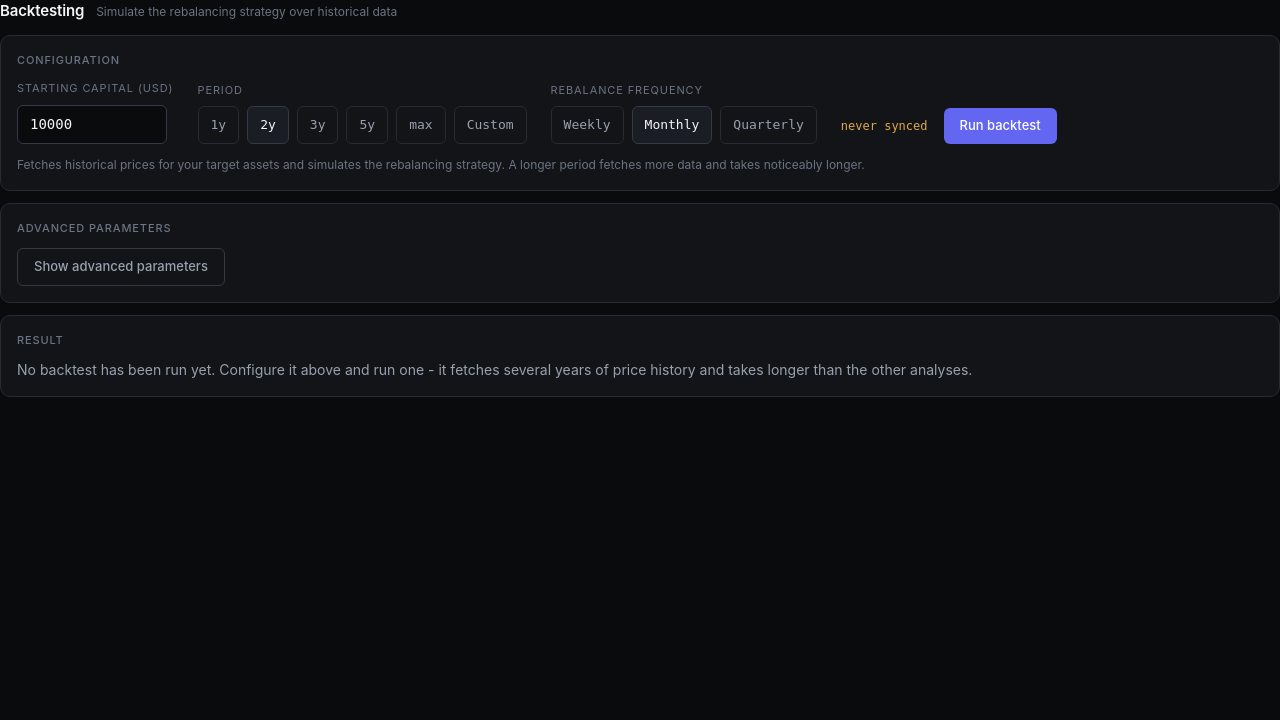
Test: Backtest custom allocation assets › rejects invalid and duplicate symbols with a hint
The width and height of the screenshot is (1280, 720).
Expected: the button "Run backtest" is shown, x1=944 y1=108 x2=1057 y2=144
Click the button "Show advanced parameters": coordinates (121, 267) x1=17 y1=248 x2=225 y2=286
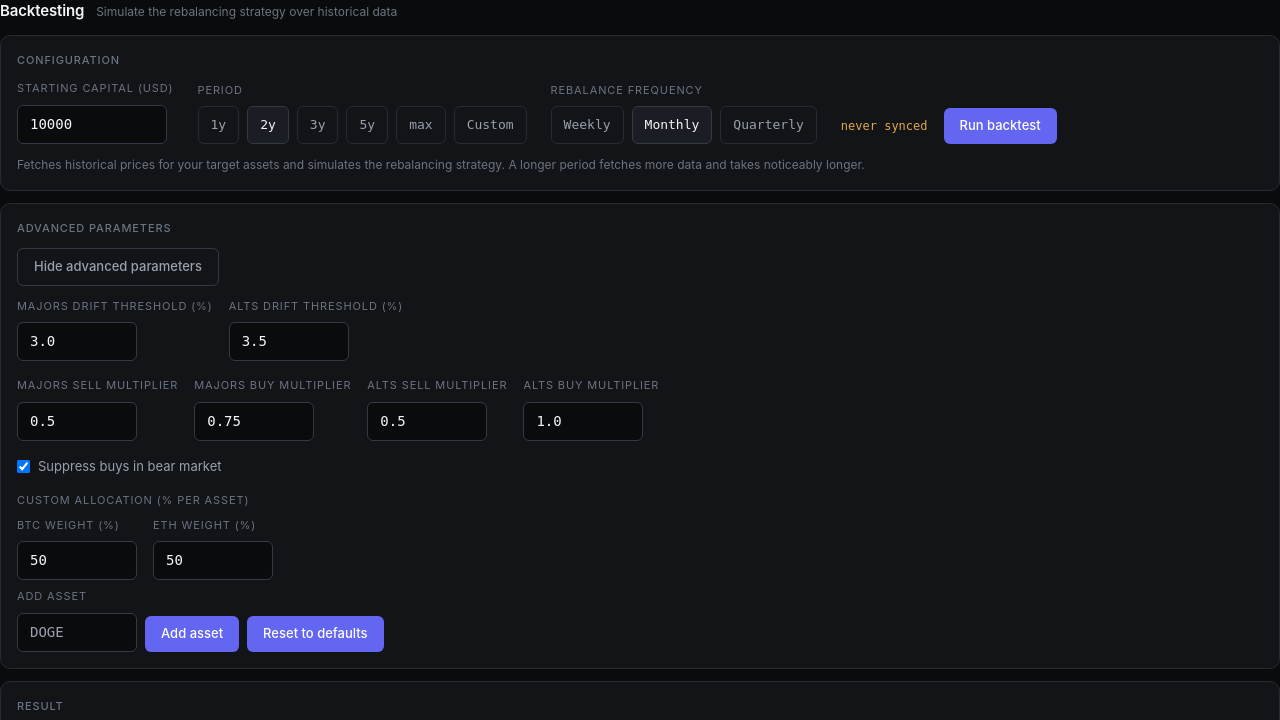
Expected: the number field labelled "BTC weight (%)" is shown, x1=17 y1=541 x2=137 y2=580
In the field with placeholder "DOGE": coordinates (77, 632) x1=17 y1=612 x2=137 y2=652, type "x"
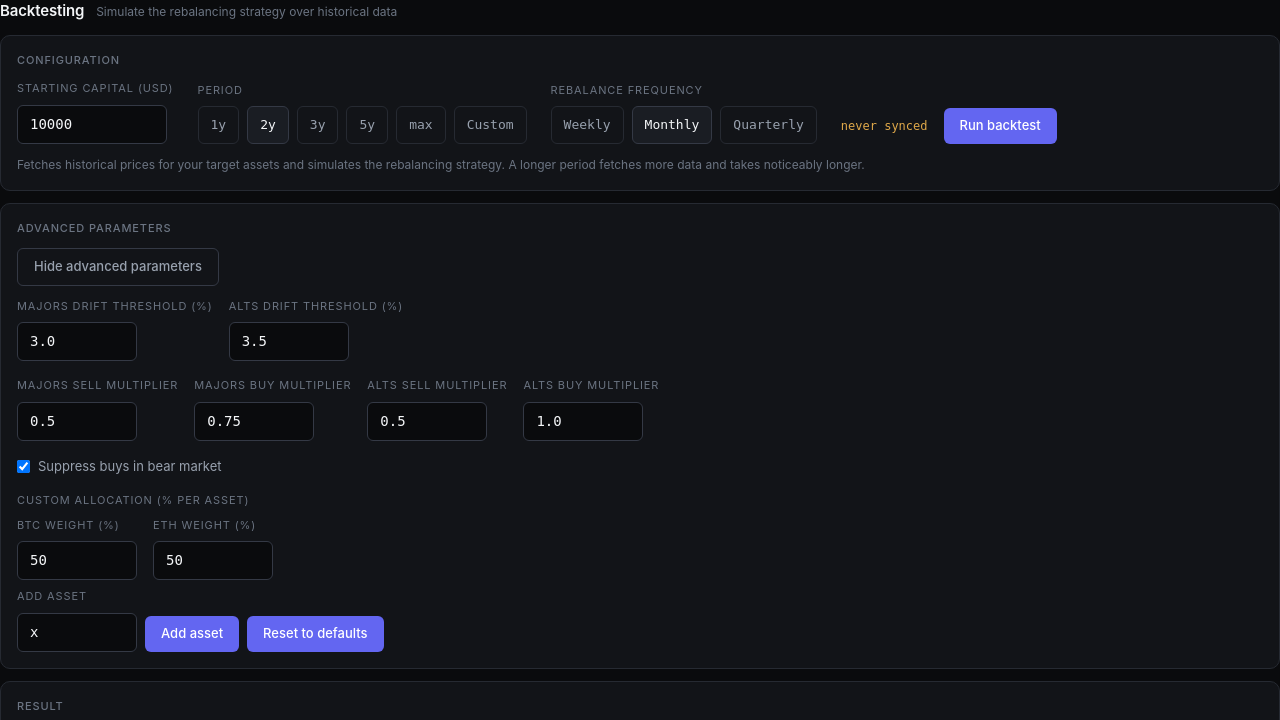
Click the button "Add asset": coordinates (192, 634) x1=145 y1=616 x2=239 y2=652
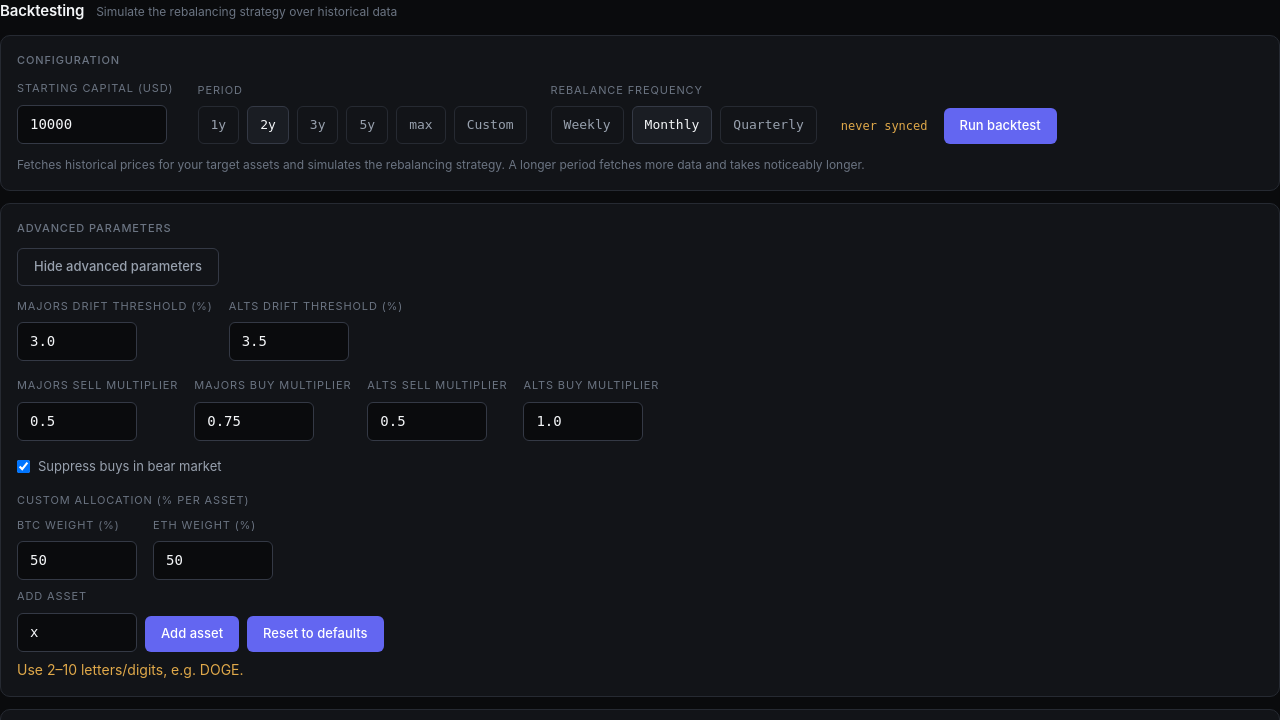
Expected: the text "Use 2–10 letters/digits, e.g. DOGE." is shown, x1=17 y1=660 x2=244 y2=678
Replace the text in the field with placeholder "DOGE" with "BTC": coordinates (77, 632) x1=17 y1=612 x2=137 y2=652
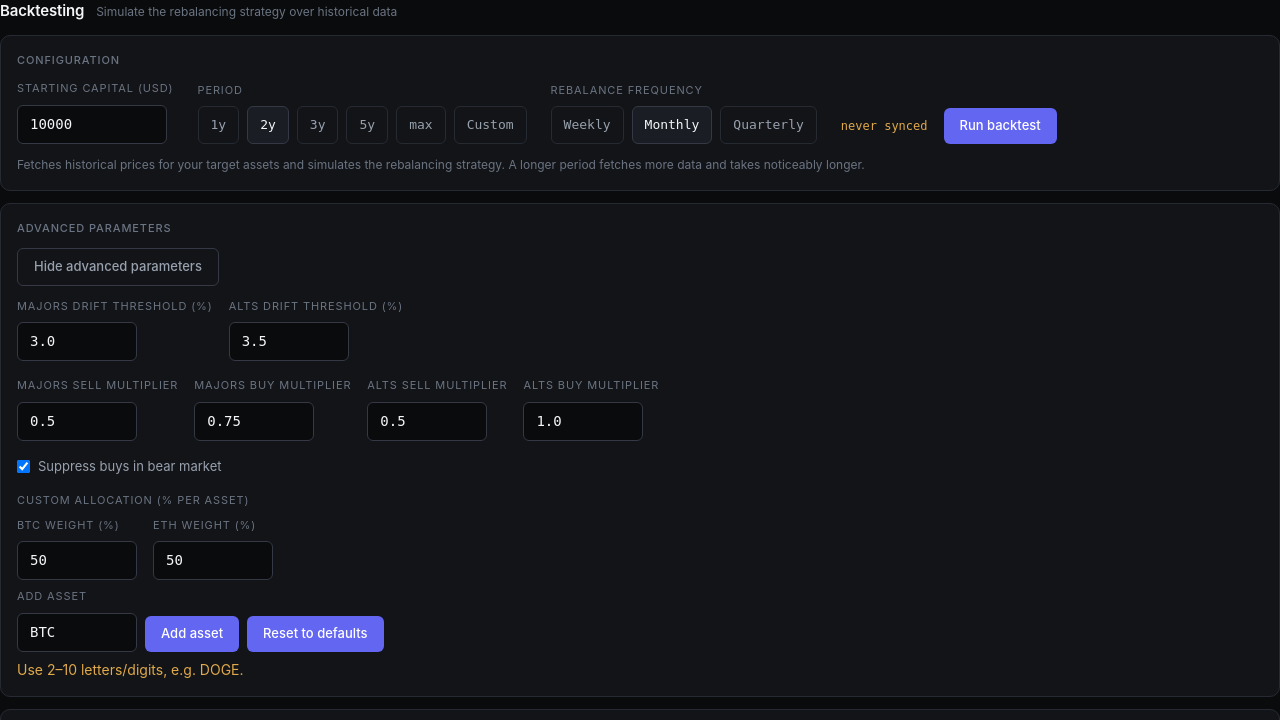
Click the button "Add asset": coordinates (192, 634) x1=145 y1=616 x2=239 y2=652
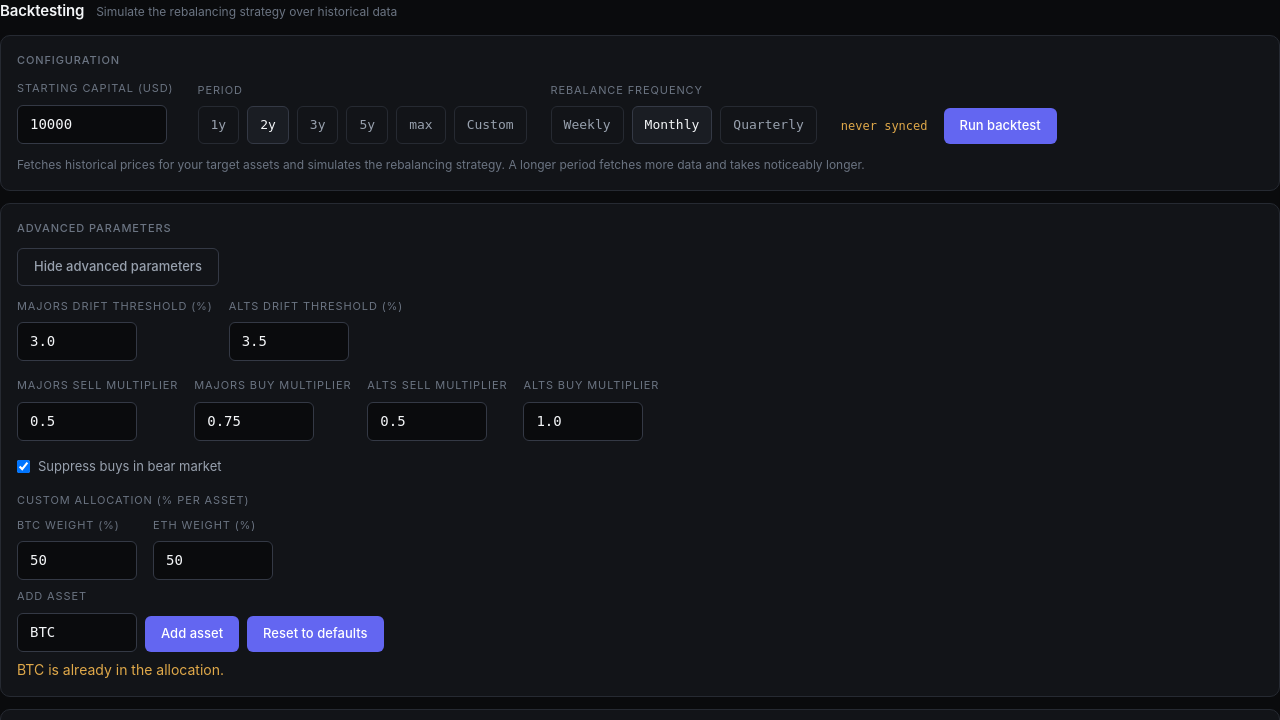
Expected: the text "BTC is already in the allocation." is shown, x1=17 y1=660 x2=224 y2=678
